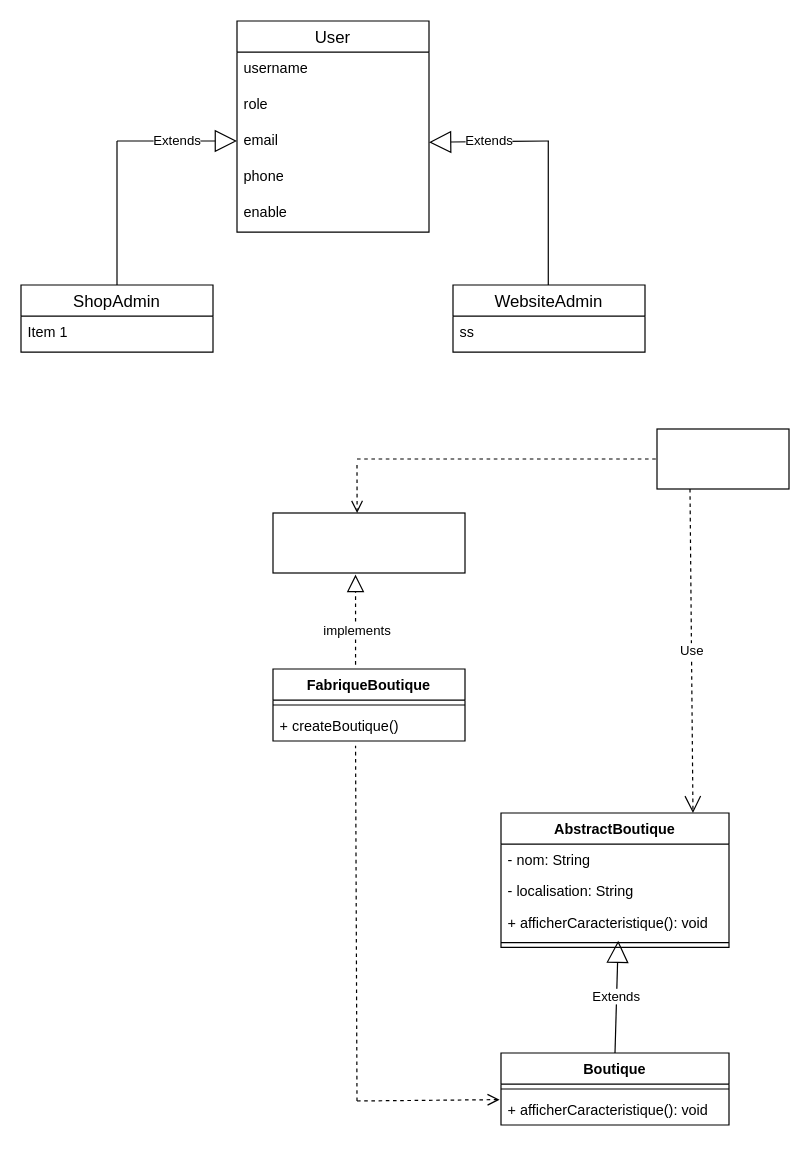
Image size: 810x1150. Some labels were removed from this diagram. Here are the shapes that lost their labels. From the top down, the centre of each, then its label:
At pixel 722 458: "Admin".
At pixel 368 542: "«interface» FabriqueBoutiqueInterface +createBoutique()".
